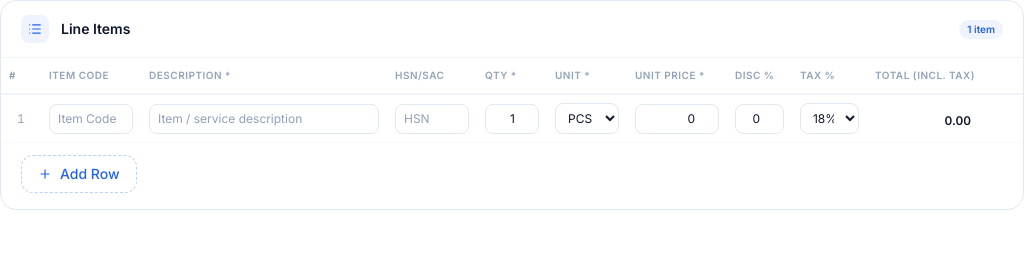
Scenario: LineItemsTable › adds a new row when Add Row is clicked
Check: the text "1 item" is shown, box [959,20,1003,38]
Click the button "Add Row" at {"x": 79, "y": 174}, box [21,155,137,193]
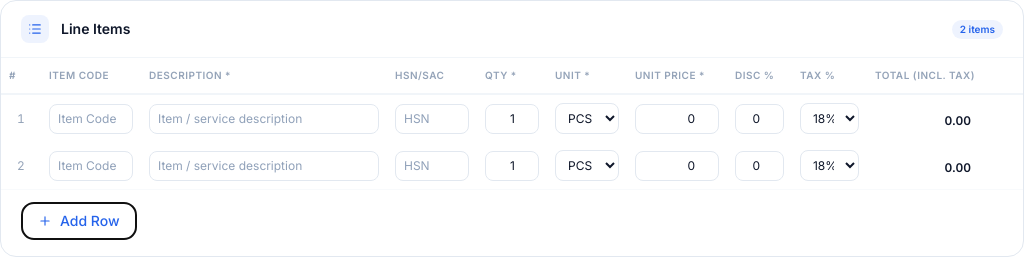
Check: the text "2 items" is shown, box [952,20,1003,38]
Check: the text "1 item" is gone
